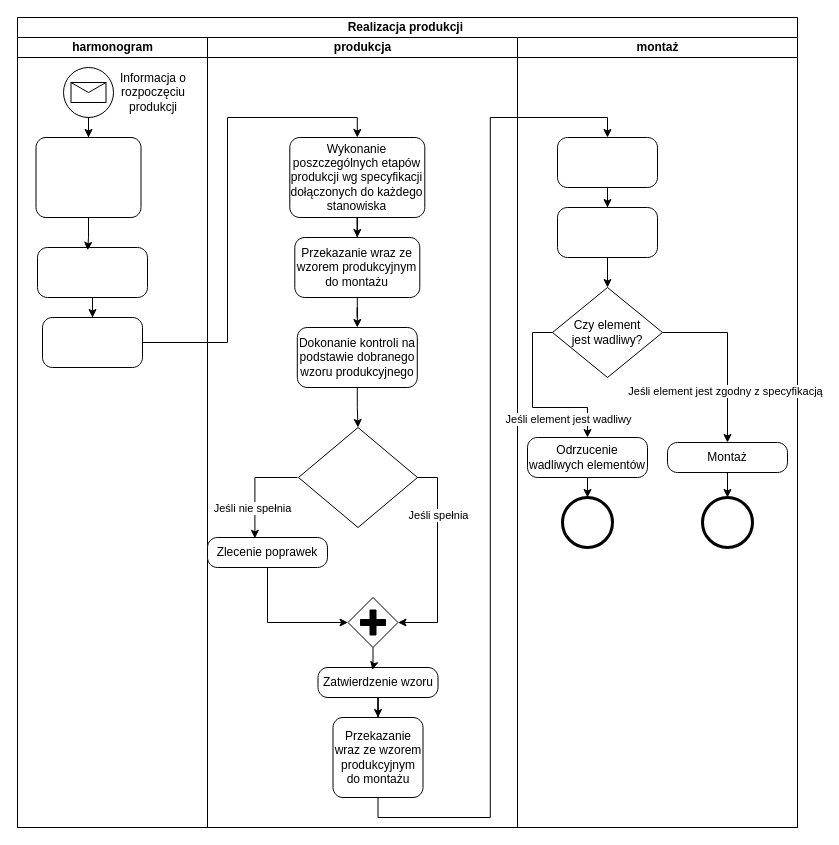
This 839x845 diagram has some shape labels left out. Each missing label, with the box of its shape:
Czy wzór spełnia wymagania?: (298, 426, 418, 528)
Odebrane wzoru produkcyjnego: (556, 136, 658, 188)
Otrzymanie materiałów z magazynu: (42, 316, 142, 368)
Rozpoczęcie produkcji wg przygotowanego harmonogramu produkcji: (35, 136, 141, 218)
Sortowanie wyprodukowanych wyrobów: (556, 206, 658, 258)
Zapoznanie się pracowników z harmonogramem: (36, 246, 148, 298)
